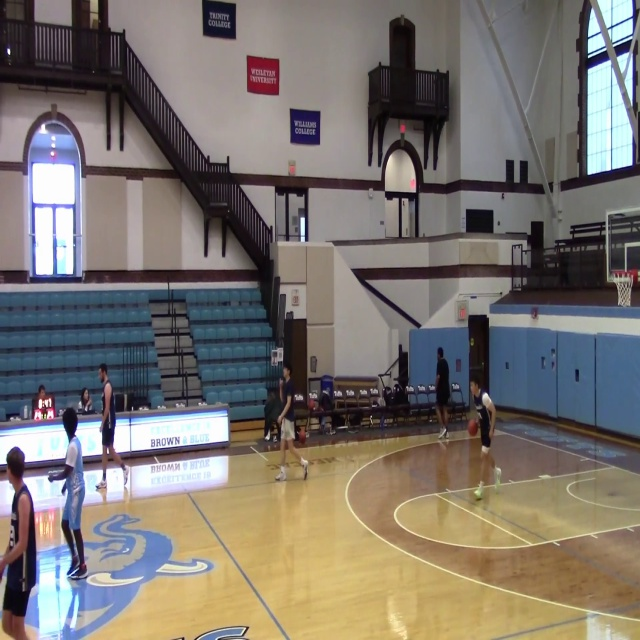Basketball: (467, 419, 478, 436)
